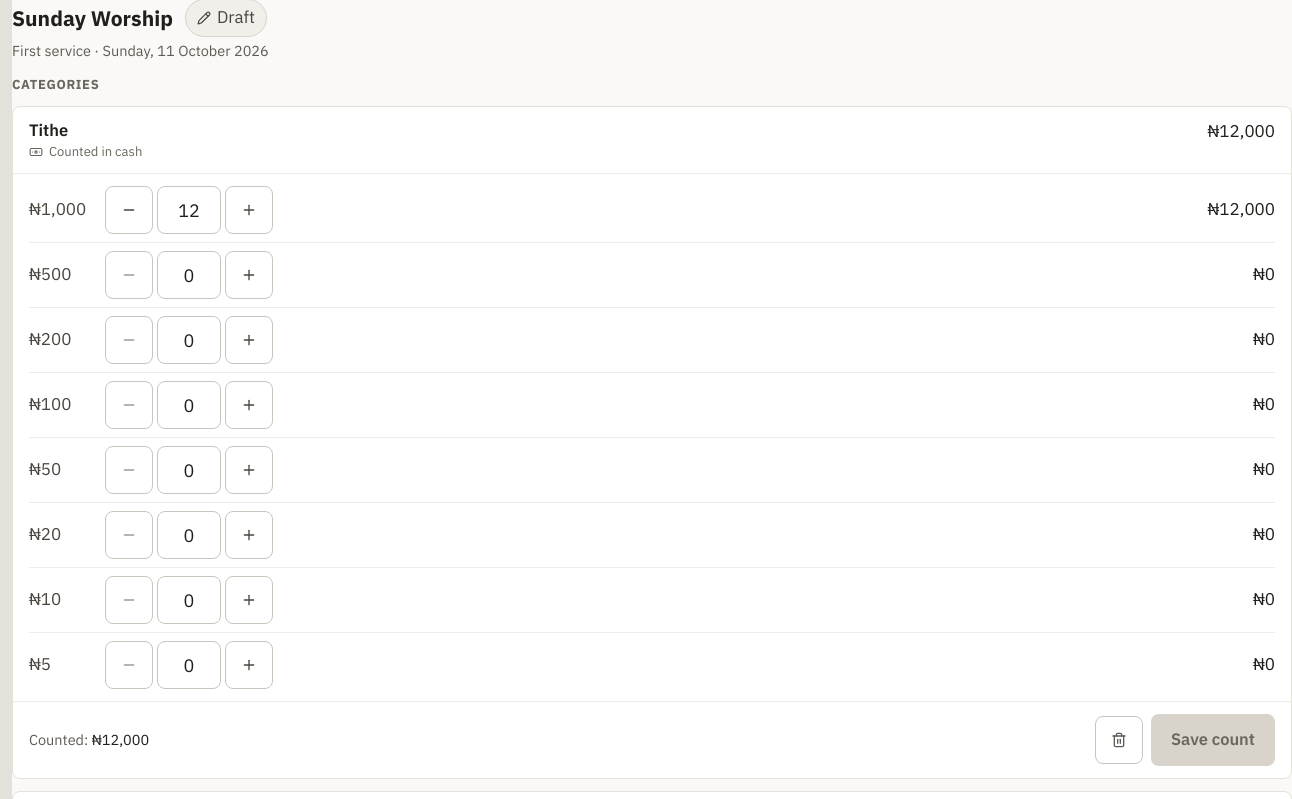
saving the count › retracts the block and brings Finalize back
Replace the text in the field named "How many 1,000 naira notes" with "20". click: (189, 210)
box: [157, 186, 221, 234]
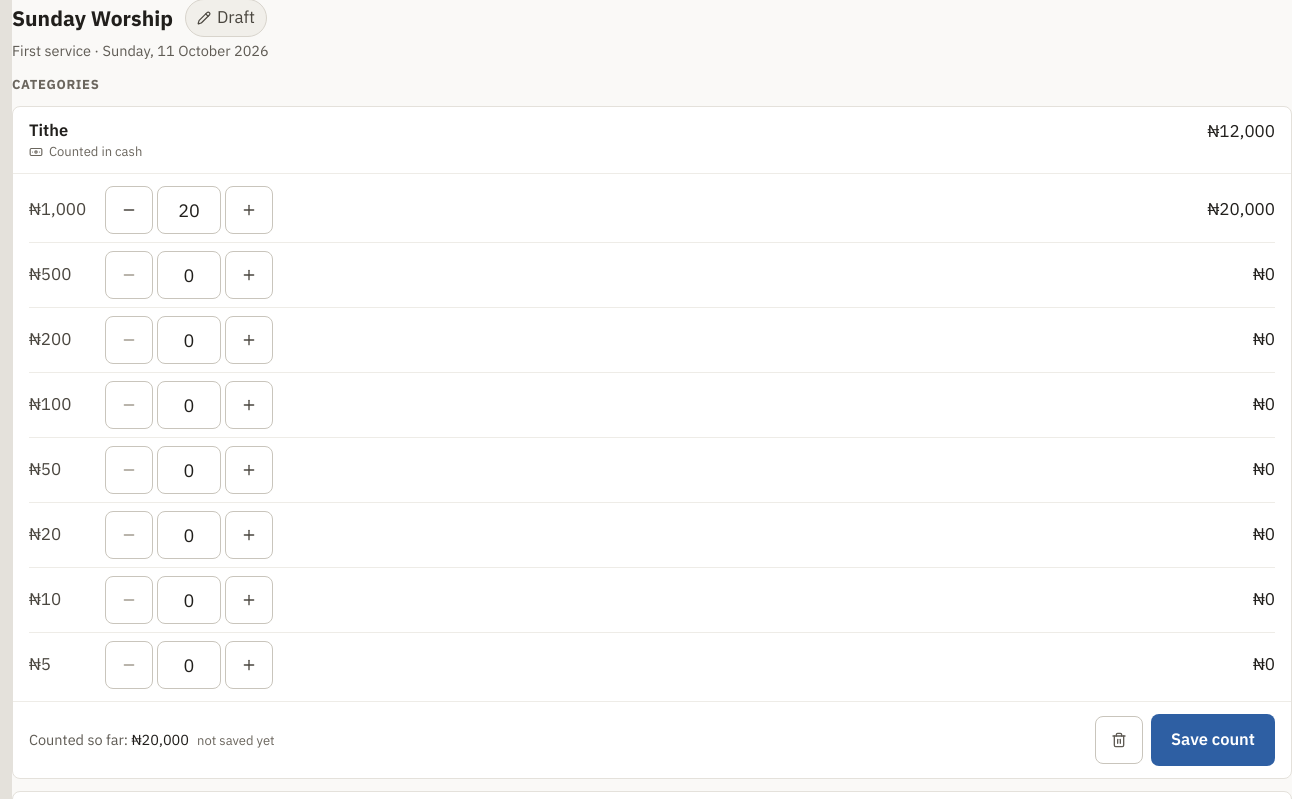
Expected: the button "Save count" is enabled
Click the button "Save count". click: (1213, 740)
box: [1151, 714, 1275, 766]
(page scrolled)
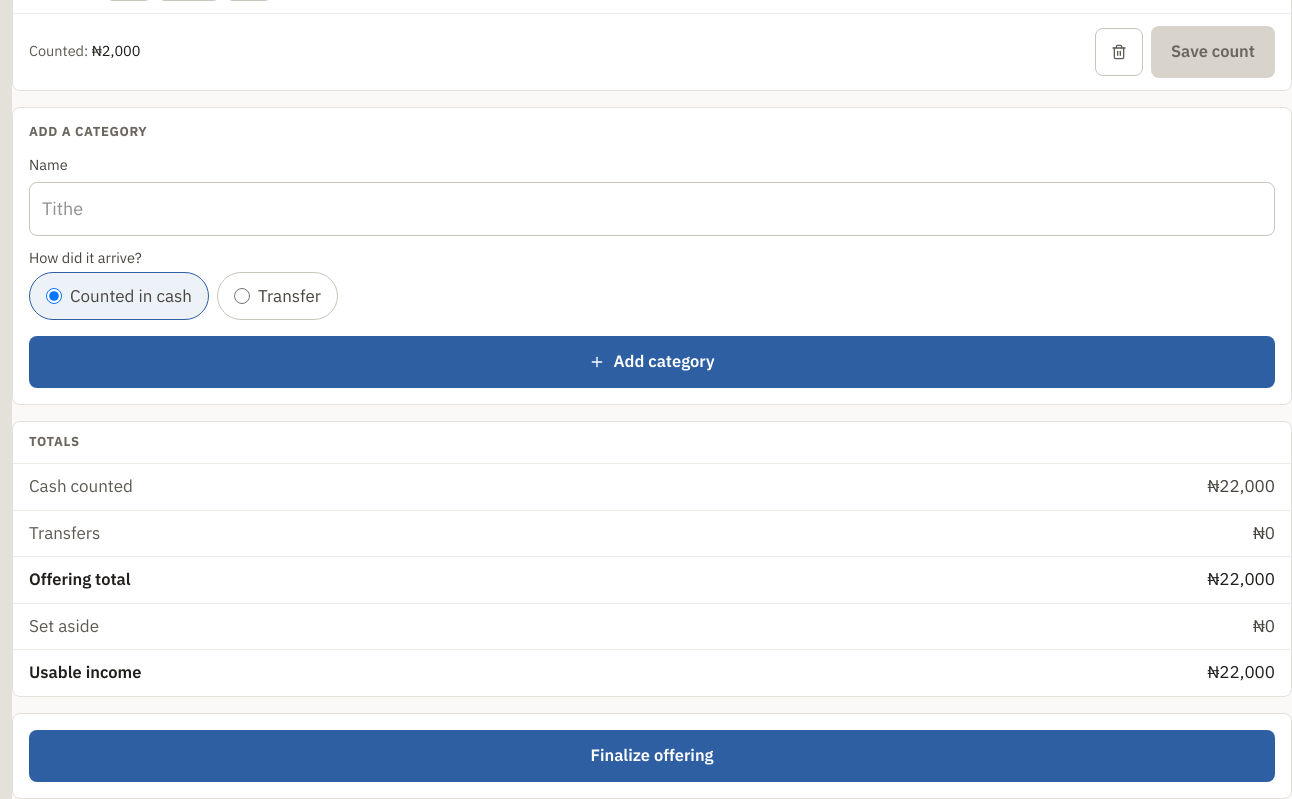
Expected: the heading "first" is not shown
Expected: the button "Finalize offering" is shown, [29, 730, 1275, 782]
Expected: the text "Tithe" no longer shows "not saved yet"
